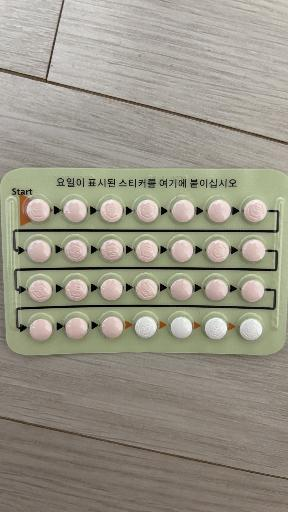Yaz: (1, 167, 288, 356), (26, 198, 50, 221), (63, 199, 87, 222), (172, 199, 195, 222), (244, 199, 267, 222), (242, 239, 265, 262), (100, 278, 123, 301), (27, 240, 51, 262), (206, 240, 230, 262), (28, 280, 52, 302), (29, 319, 53, 341), (100, 200, 123, 222), (208, 200, 231, 222), (241, 280, 264, 302), (205, 279, 228, 301), (65, 279, 88, 301), (65, 317, 88, 339), (137, 200, 159, 222), (101, 239, 123, 261), (171, 240, 193, 262), (101, 316, 123, 338), (135, 316, 157, 338), (205, 317, 227, 339), (170, 279, 193, 300), (170, 317, 193, 338), (65, 240, 87, 261), (136, 240, 158, 261), (136, 279, 158, 300), (240, 319, 262, 340)
